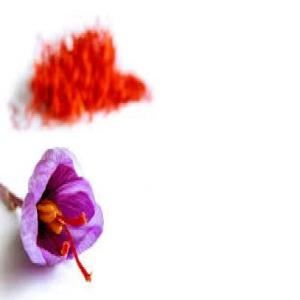Saffron: (20, 146, 105, 268)
